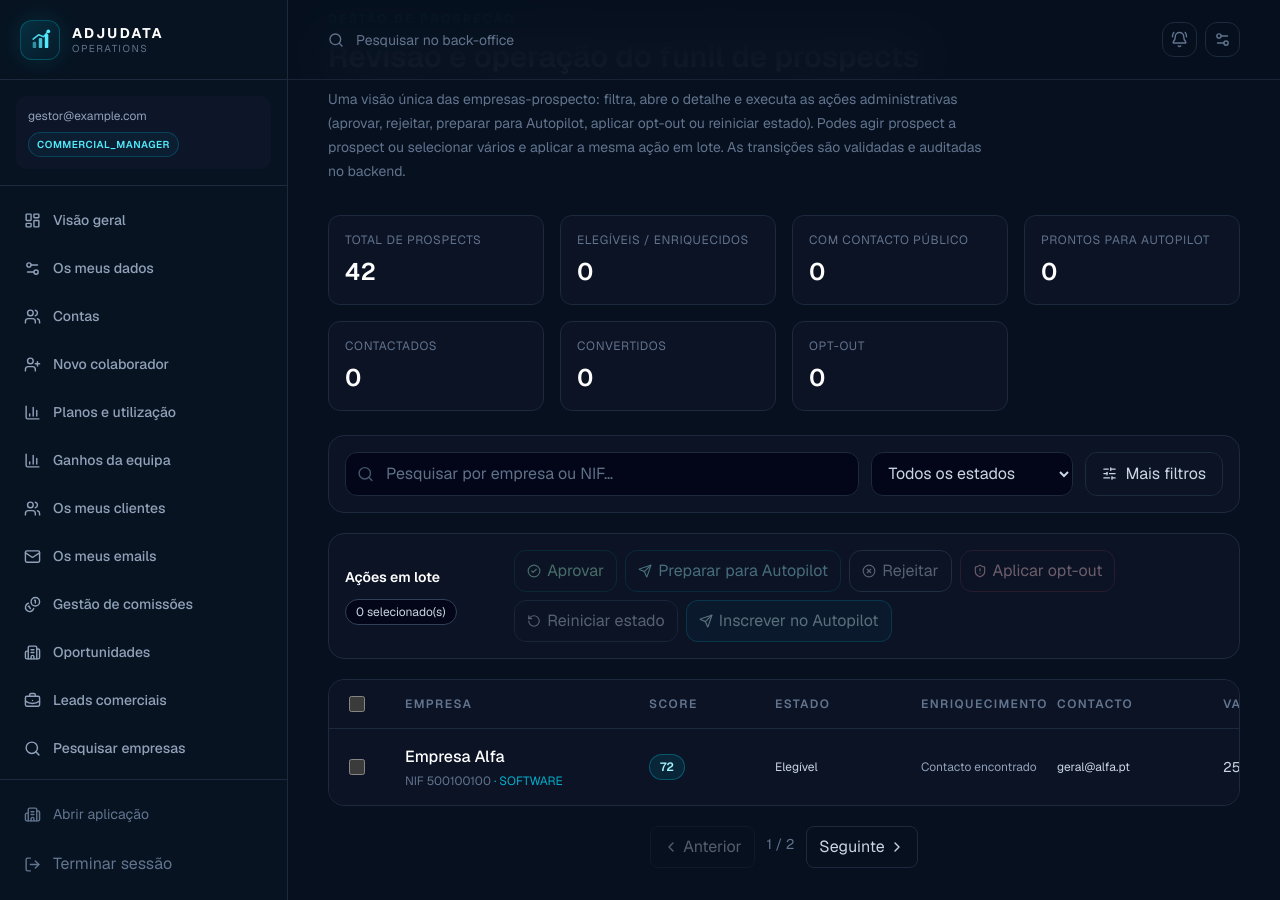
ProspectingManagementPage › mostra o detalhe dos prospects bloqueados no lote
The width and height of the screenshot is (1280, 900).
(page scrolled)
Expected: the text "Empresa Alfa" is shown, [405, 746, 505, 766]
What coordinates should you click on to do the following:
click the checkbox named "Selecionar Empresa Alfa"
I would click on:
 (357, 766)
Its box is [349, 758, 365, 774].
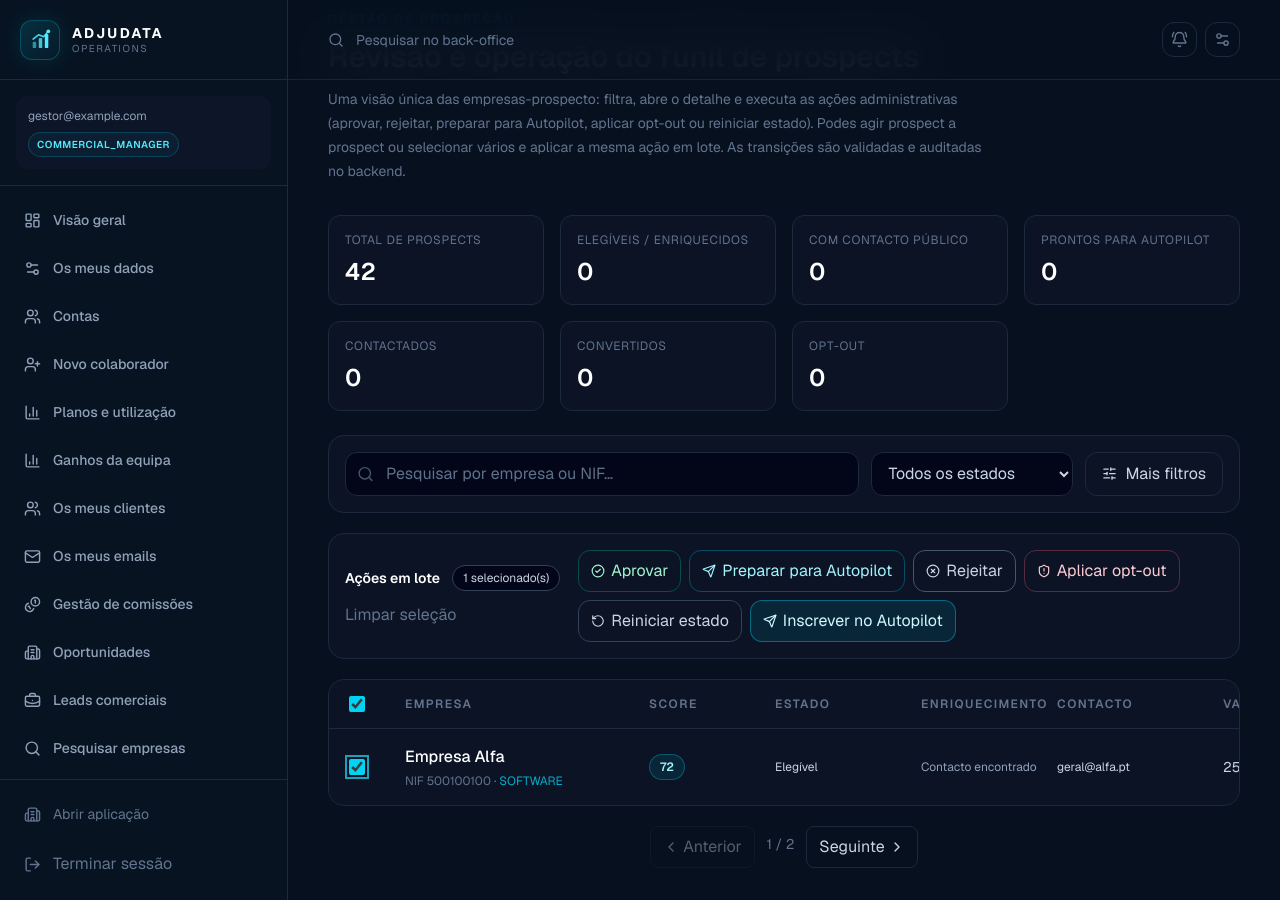
What coordinates should you click on to do the following:
click the button "Aprovar"
I would click on:
 (630, 570)
Its box is [578, 550, 681, 592].
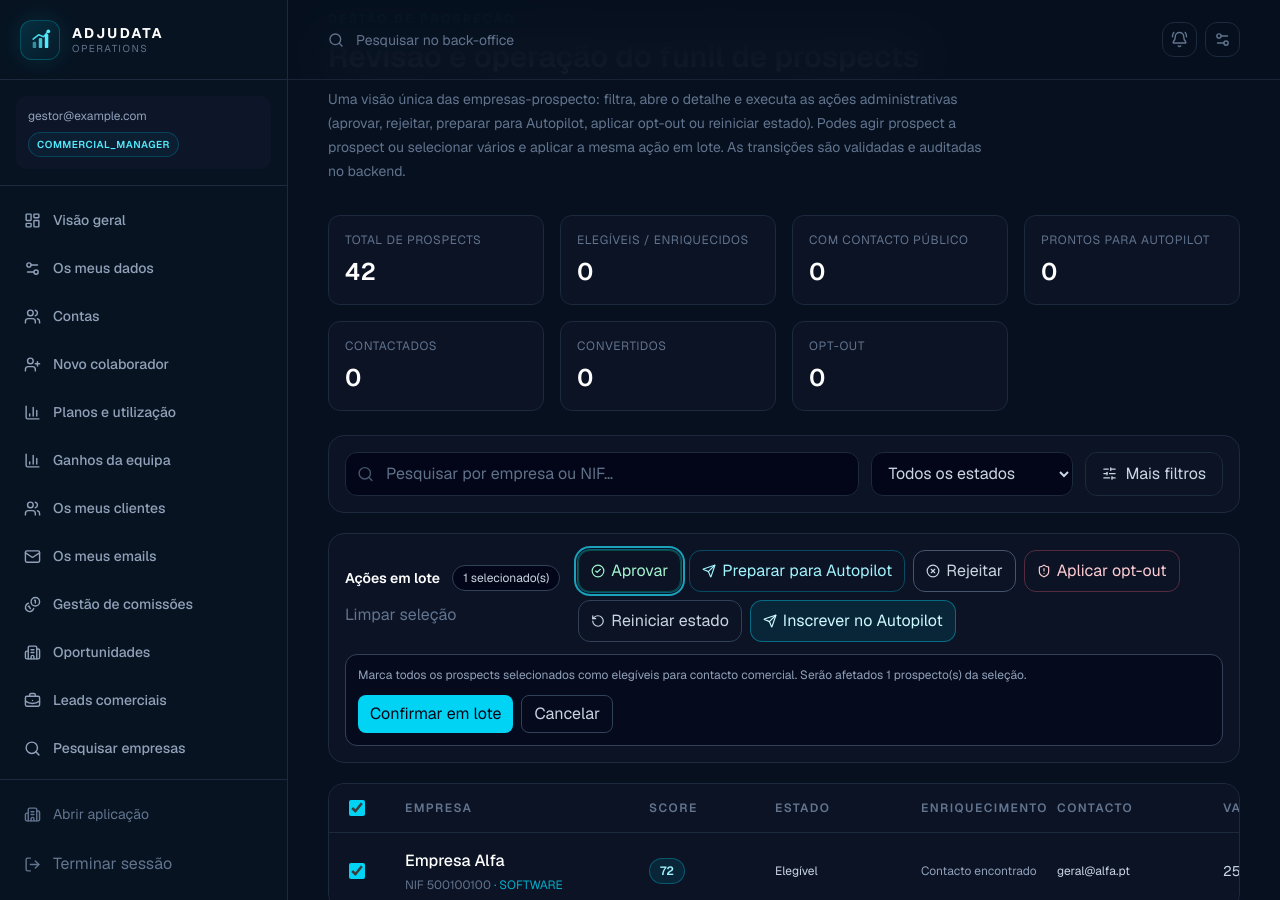
What coordinates should you click on to do the following:
click the button "Confirmar em lote"
I would click on:
 (436, 714)
Its box is [358, 694, 513, 732].
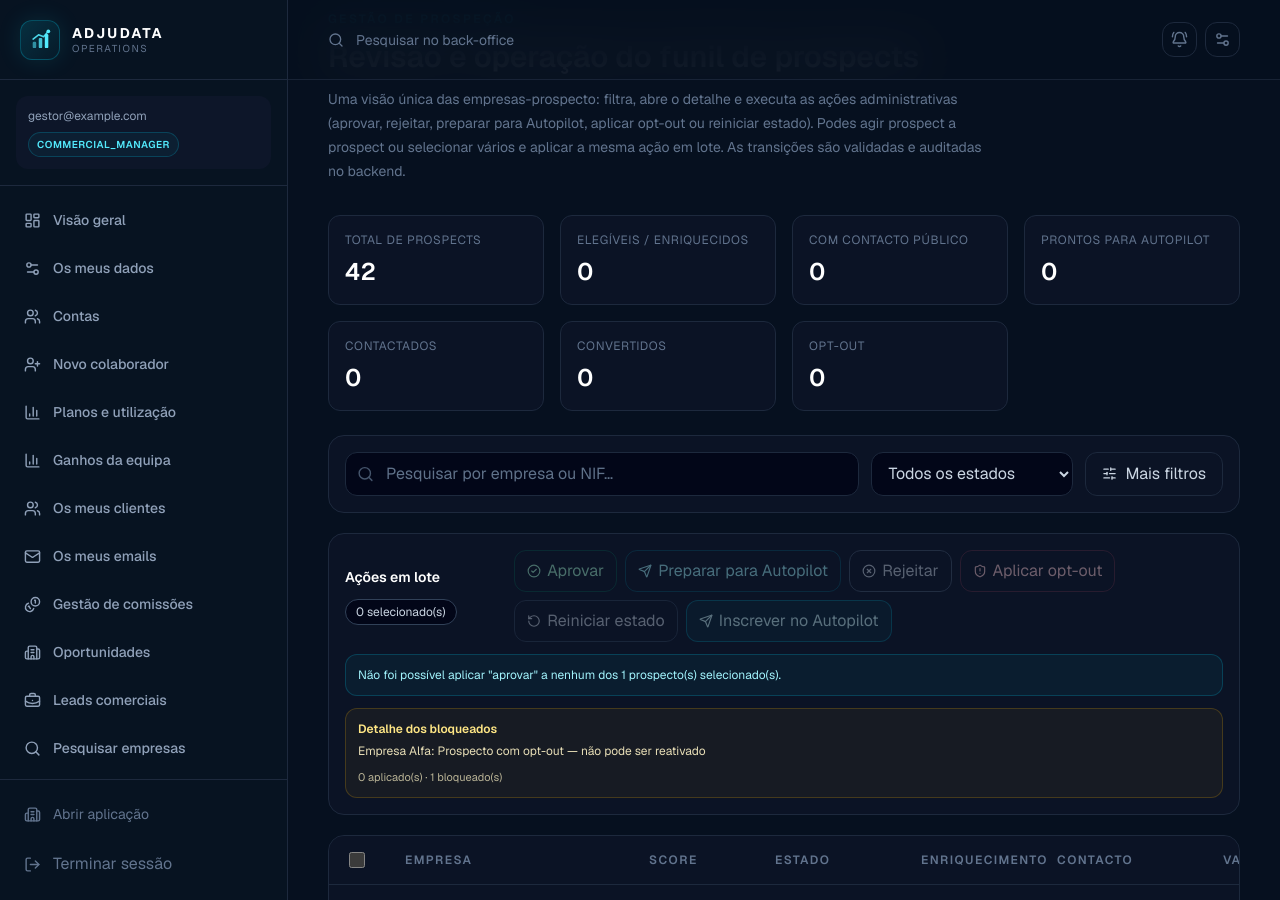
Now the text "Empresa Alfa: Prospecto com opt-out — não pode ser reativado" is shown, box [358, 742, 706, 758]
